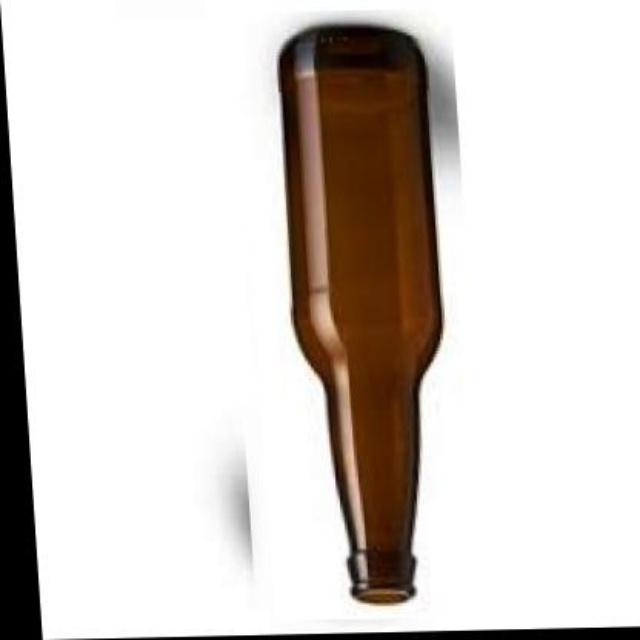trash: (278, 26, 440, 602)
